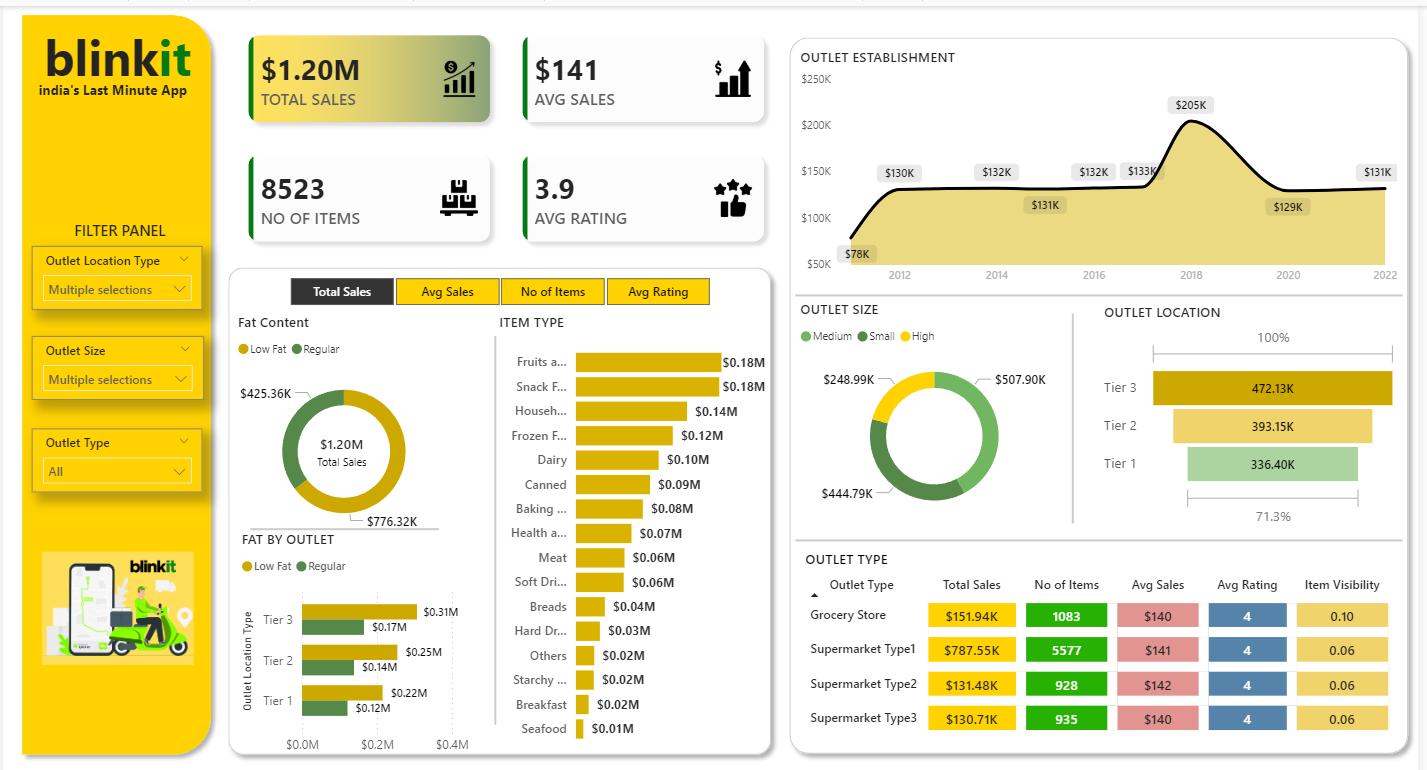

This screenshot's page, from the dashboard's own definition file:
{"tool":"powerbi","page":{"name":"Page 1","canvas":[1400,800],"ordinal":0},"visuals":[{"type":"shape","box":[10,0,205,750],"z":0},{"type":"textbox","box":[29.5,12.1,167.6,75.1],"z":1000},{"type":"textbox","box":[20.1,69.7,178.3,34.9],"z":2000},{"type":"cardVisual","fields":{"Data":["BlinkIT Grocery Data.Total Sales","BlinkIT Grocery Data.Avg Sales","BlinkIT Grocery Data.No of Items","BlinkIT Grocery Data.Avg Rating"]},"box":[214.5,0,569.7,262.7],"z":3000},{"type":"shape","box":[214.5,249.3,555,500],"z":4000},{"type":"donutChart","title":"Fat Content","fields":{"Y":["BlinkIT Grocery Data.Total Sales"],"Category":["BlinkIT Grocery Data.Item Fat Content"]},"box":[227.9,303,219.8,230.6],"z":5000},{"type":"slicer","fields":{"Values":["Parameter.Parameter"]},"box":[258.7,262.7,465.1,40.2],"z":6000},{"type":"cardVisual","fields":{"Data":["BlinkIT Grocery Data.Total Sales"]},"box":[276.1,399.5,119.3,83.1],"z":7000},{"type":"clusteredBarChart","title":"FAT BY OUTLET","fields":{"Y":["BlinkIT Grocery Data.Total Sales"],"Category":["BlinkIT Grocery Data.Outlet Location Type"],"Series":["BlinkIT Grocery Data.Item Fat Content"]},"box":[231.9,518.8,241.3,230.6],"z":8000},{"type":"shape","box":[245.3,501.3,186.3,33.5],"z":9000},{"type":"shape","box":[473.2,327.1,26.8,384.7],"z":10000},{"type":"barChart","title":"ITEM TYPE","fields":{"Y":["BlinkIT Grocery Data.Total Sales"],"Category":["BlinkIT Grocery Data.Item Type"]},"box":[486.6,303,273.5,437],"z":11000},{"type":"shape","box":[769.4,22.8,630,726.5],"z":12000},{"type":"lineChart","title":"OUTLET ESTABLISHMENT","fields":{"Y":["BlinkIT Grocery Data.Total Sales"],"Category":["BlinkIT Grocery Data.Outlet Establishment Year"]},"box":[784.2,40.2,600.5,242.6],"z":13000},{"type":"shape","box":[784.2,269.4,600.5,33.5],"z":14000},{"type":"donutChart","title":"OUTLET SIZE","fields":{"Y":["BlinkIT Grocery Data.Total Sales"],"Category":["BlinkIT Grocery Data.Outlet Size"]},"box":[784.2,290.9,275,225],"z":15000},{"type":"shape","box":[1045.6,304.3,26.8,207.8],"z":16000},{"type":"funnel","title":"OUTLET LOCATION","fields":{"Y":["Sum(BlinkIT Grocery Data.Sales)"],"Category":["BlinkIT Grocery Data.Outlet Location Type"]},"box":[1084.5,293.6,300.3,227.9],"z":17000},{"type":"shape","box":[784.2,512.1,600.5,33.5],"z":18000},{"type":"pivotTable","title":"OUTLET TYPE","fields":{"Rows":["BlinkIT Grocery Data.Outlet Type"],"Values":["BlinkIT Grocery Data.Total Sales","BlinkIT Grocery Data.No of Items","BlinkIT Grocery Data.Avg Sales","BlinkIT Grocery Data.Avg Rating","Avg(BlinkIT Grocery Data.Item Visibility)"]},"box":[789.5,537.5,589.8,194.4],"z":19000},{"type":"slicer","fields":{"Values":["BlinkIT Grocery Data.Outlet Location Type"]},"box":[28.2,237.3,168.9,63],"z":20000},{"type":"slicer","fields":{"Values":["BlinkIT Grocery Data.Outlet Size"]},"box":[28.2,327.1,170.2,63],"z":21000},{"type":"slicer","fields":{"Values":["BlinkIT Grocery Data.Outlet Type"]},"box":[28.2,418.2,168.9,63],"z":22000},{"type":"textbox","box":[65.7,206.4,113.9,30.8],"z":23000},{"type":"image","box":[38.9,520.1,150.1,150.1],"z":24000}]}

Visuals, with their boxes on the page's 1400x800 design canvas (x1, y1, x2, y2). These are canvas units, not pixel positions in the 1427x770 screenshot, which may show the page scaled, cropped or inside an application window:
shape: locate(10, 0, 215, 750)
textbox: locate(30, 12, 197, 87)
textbox: locate(20, 70, 198, 105)
cardVisual - BlinkIT Grocery Data.Total Sales x BlinkIT Grocery Data.Avg Sales: locate(214, 0, 784, 263)
shape: locate(214, 249, 770, 749)
"Fat Content" donutChart: locate(228, 303, 448, 534)
slicer - Parameter.Parameter: locate(259, 263, 724, 303)
cardVisual - BlinkIT Grocery Data.Total Sales: locate(276, 400, 395, 483)
"FAT BY OUTLET" clusteredBarChart: locate(232, 519, 473, 749)
shape: locate(245, 501, 432, 535)
shape: locate(473, 327, 500, 712)
"ITEM TYPE" barChart: locate(487, 303, 760, 740)
shape: locate(769, 23, 1399, 749)
"OUTLET ESTABLISHMENT" lineChart: locate(784, 40, 1385, 283)
shape: locate(784, 269, 1385, 303)
"OUTLET SIZE" donutChart: locate(784, 291, 1059, 516)
shape: locate(1046, 304, 1072, 512)
"OUTLET LOCATION" funnel: locate(1084, 294, 1385, 522)
shape: locate(784, 512, 1385, 546)
"OUTLET TYPE" pivotTable: locate(790, 538, 1379, 732)
slicer - BlinkIT Grocery Data.Outlet Location Type: locate(28, 237, 197, 300)
slicer - BlinkIT Grocery Data.Outlet Size: locate(28, 327, 198, 390)
slicer - BlinkIT Grocery Data.Outlet Type: locate(28, 418, 197, 481)
textbox: locate(66, 206, 180, 237)
image: locate(39, 520, 189, 670)
